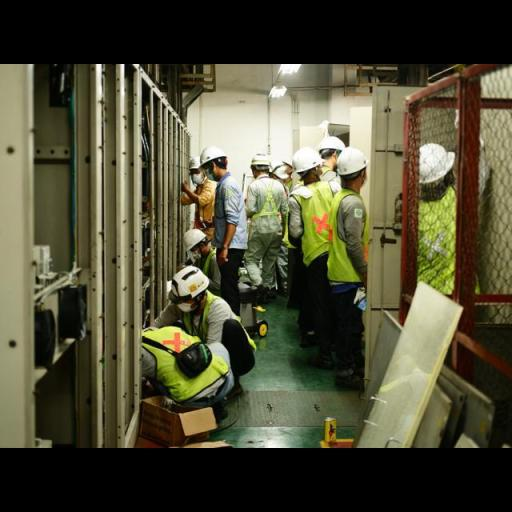Person: (401, 131, 487, 346), (144, 256, 264, 386), (188, 138, 262, 336), (322, 134, 383, 361), (286, 131, 352, 335), (133, 314, 235, 432), (240, 145, 298, 316), (178, 152, 237, 242), (305, 112, 351, 221), (178, 220, 244, 292)
helmet: (408, 131, 461, 191), (165, 265, 215, 305), (288, 140, 330, 177), (335, 141, 370, 183), (317, 128, 354, 163), (196, 138, 230, 175), (176, 224, 214, 257), (182, 148, 217, 176), (270, 146, 298, 173), (248, 149, 275, 175)
vest: (404, 186, 482, 315), (162, 287, 262, 372), (133, 322, 233, 403), (286, 171, 348, 266), (324, 188, 372, 292), (242, 170, 290, 244), (210, 174, 252, 251), (186, 244, 232, 290), (316, 148, 348, 194)
